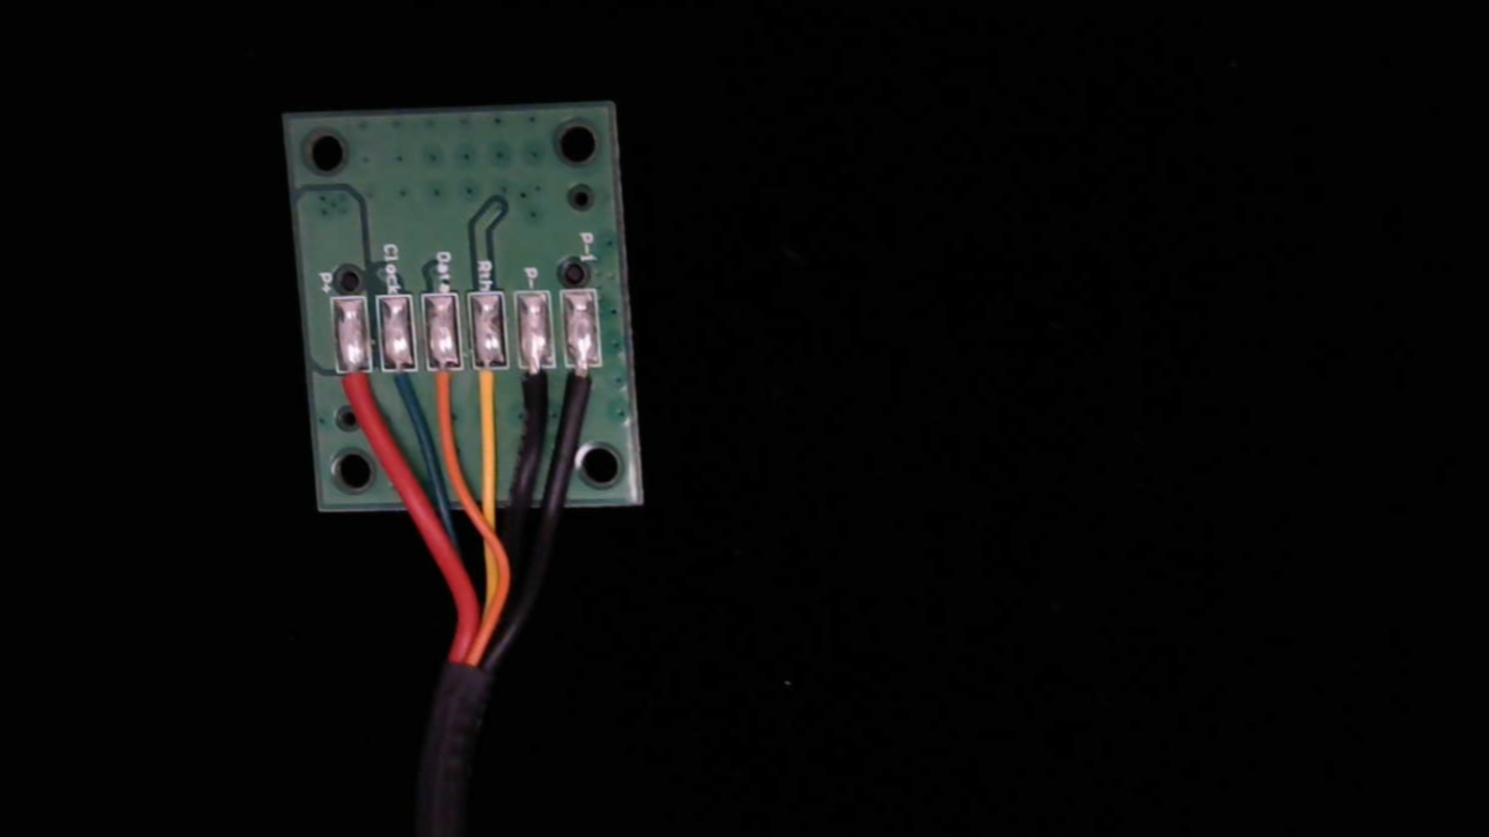Black: (513, 348, 557, 435)
Black1: (565, 349, 606, 430)
Green: (379, 351, 423, 435)
Orange: (423, 350, 464, 436)
Red: (335, 351, 379, 435)
Yellow: (468, 350, 512, 439)
